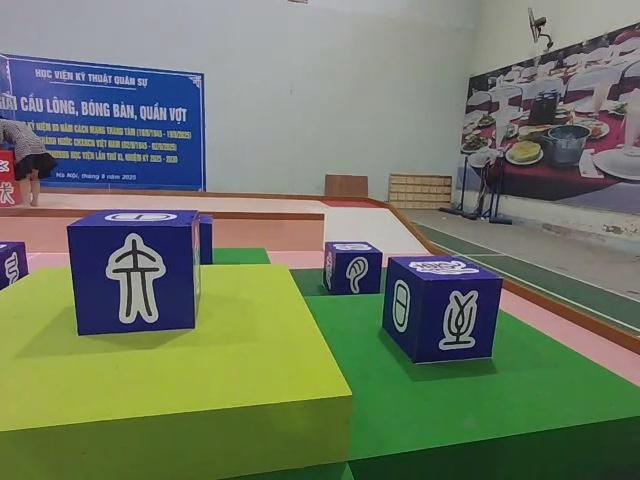R2 Fake Blue: (67, 210, 203, 338), (381, 258, 501, 368), (323, 242, 384, 297), (0, 241, 28, 305)
